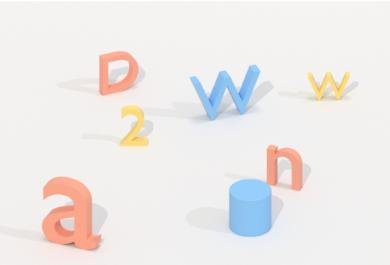0-KhoiTru: (225, 175, 277, 241)
2: (116, 102, 152, 151)
D: (95, 48, 142, 99)
W: (186, 60, 263, 125), (303, 65, 354, 105)
a: (39, 174, 104, 253)
n: (263, 140, 306, 194)
